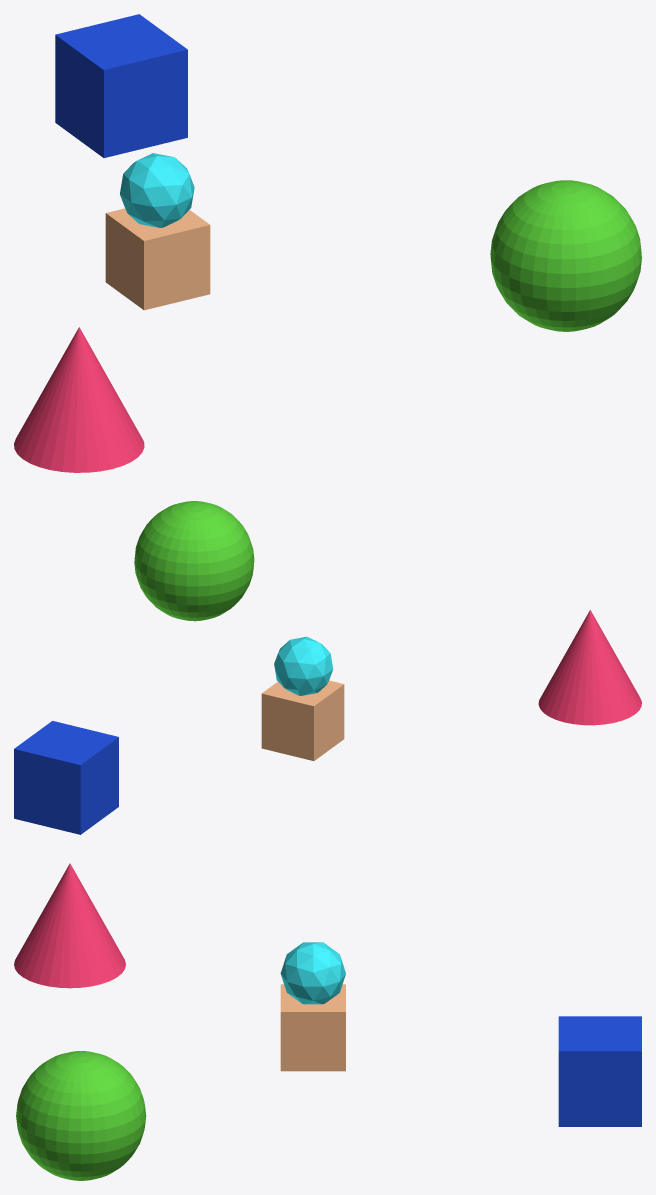
The picture shows the model from 3 angles, top to bottom: view 1: azimuth 30°, elevation 25°; view 2: azimuth 150°, elevation 25°; view 3: azimuth 270°, elevation 25°; orthographic projection. The views are drawn at different scales.
Parts seen in each view (by area): view 1: Sphere, Cube.001, Cone, Cube, Icosphere; view 2: Sphere, Cube.001, Cone, Cube, Icosphere; view 3: Sphere, Cube.001, Cone, Cube, Icosphere.
Part boxes in pixels (x1=…): Sphere: x1=490, y1=180, x2=641, y2=331; Cube.001: x1=55, y1=14, x2=187, y2=157; Cone: x1=14, y1=327, x2=144, y2=472; Cube: x1=105, y1=208, x2=210, y2=310; Icosphere: x1=120, y1=153, x2=194, y2=227; Sphere: x1=134, y1=501, x2=254, y2=621; Cube.001: x1=14, y1=721, x2=118, y2=834; Cone: x1=538, y1=610, x2=641, y2=725; Cube: x1=261, y1=680, x2=344, y2=760; Icosphere: x1=274, y1=636, x2=333, y2=695; Sphere: x1=16, y1=1051, x2=146, y2=1180; Cube.001: x1=558, y1=1016, x2=641, y2=1126; Cone: x1=14, y1=863, x2=125, y2=988; Cube: x1=280, y1=984, x2=345, y2=1071; Icosphere: x1=280, y1=942, x2=345, y2=1004.
Size of what is drawn, in the model's own units: 18.58 by 3.97 by 19.15.
